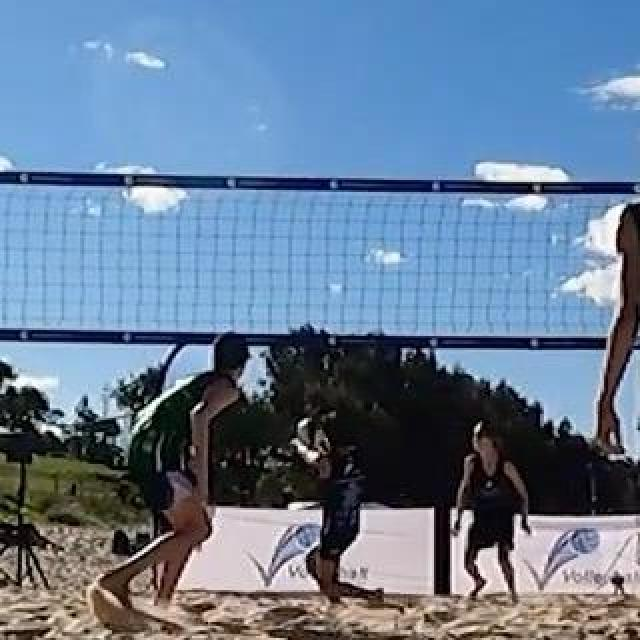volleyball: (297, 417, 323, 445)
